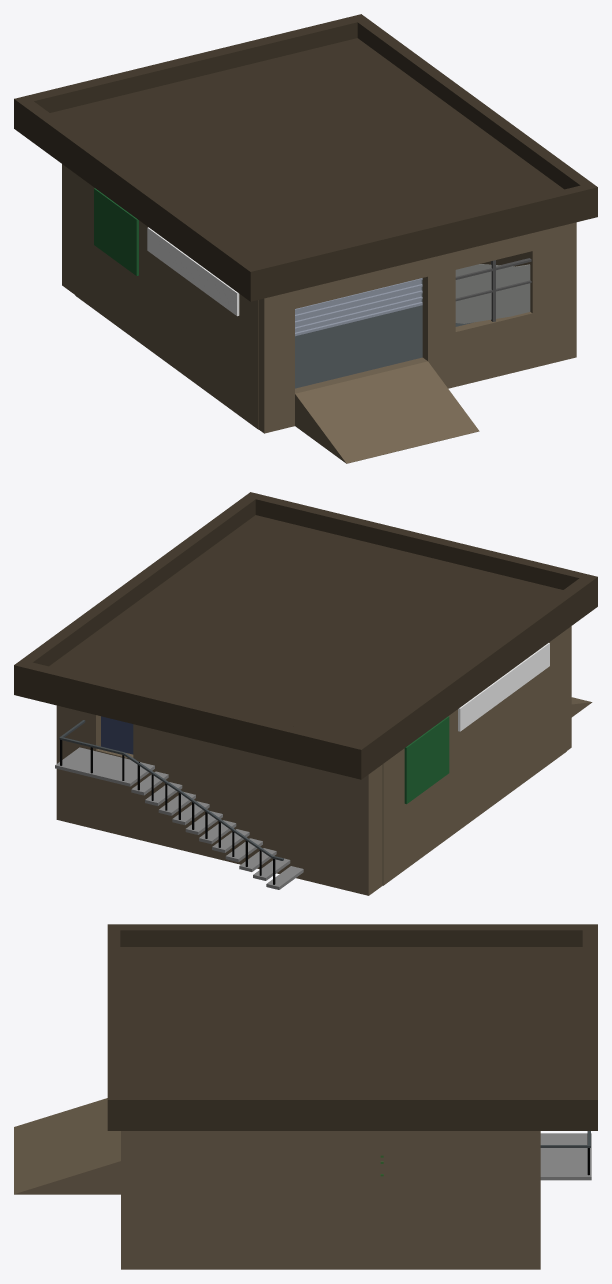
File: WIL_lvl3.fbx
3 renders of one model, top to bottom at view 1: azimuth 30°, elevation 25°; view 2: azimuth 150°, elevation 25°; view 3: azimuth 270°, elevation 25°, orthographic. The views are drawn at different scales.
Visible parts, largest first — view 1: Cube.014; view 2: Cube.014; view 3: Cube.014.
Part boxes in pixels (x1=…): Cube.014: x1=14, y1=14, x2=597, y2=463; Cube.014: x1=14, y1=492, x2=597, y2=895; Cube.014: x1=14, y1=924, x2=597, y2=1269.
Size of the model in its own units: 5174 by 2436 by 7269.
